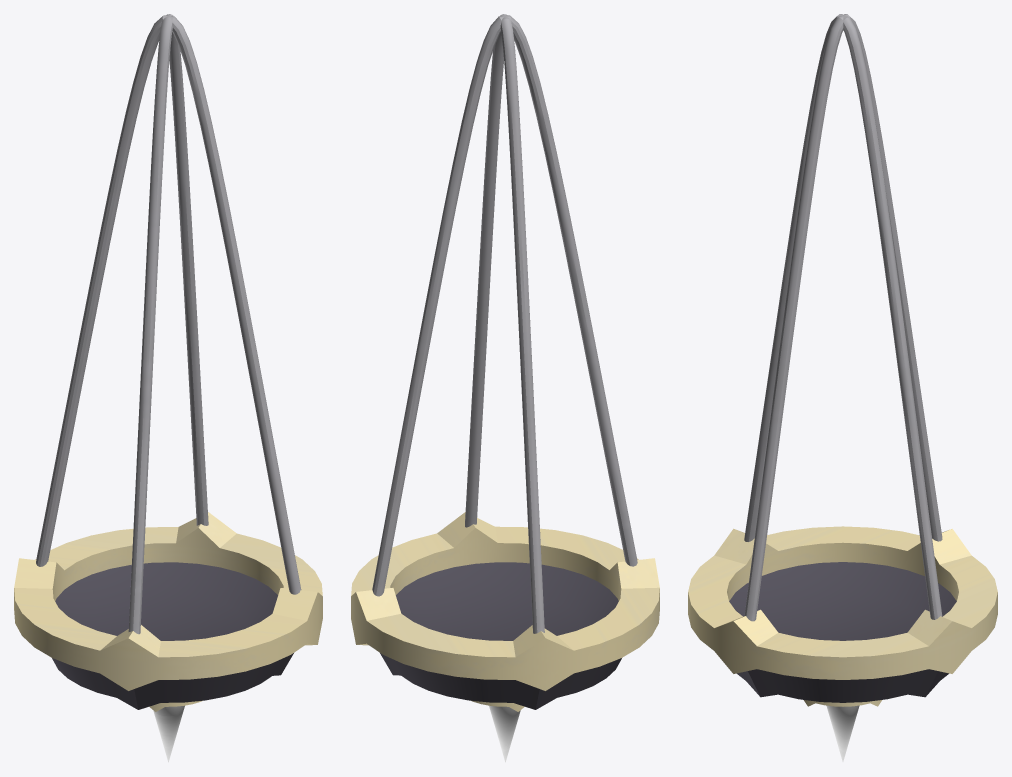
The model's file is Scales.fbx.
3 renders of one model, left to right at view 1: azimuth 30°, elevation 25°; view 2: azimuth 150°, elevation 25°; view 3: azimuth 270°, elevation 25°, orthographic.
Visible parts, largest first — view 1: Circle.017; view 2: Circle.017; view 3: Circle.017.
Part boxes in pixels (x1,y1,x2,y2): Circle.017: (14,14,322,762); Circle.017: (351,14,659,762); Circle.017: (688,14,997,761).
Bounding box in the file's own units: 1200 × 3195 × 1200.
Materials: 2 (2 with a texture image).
